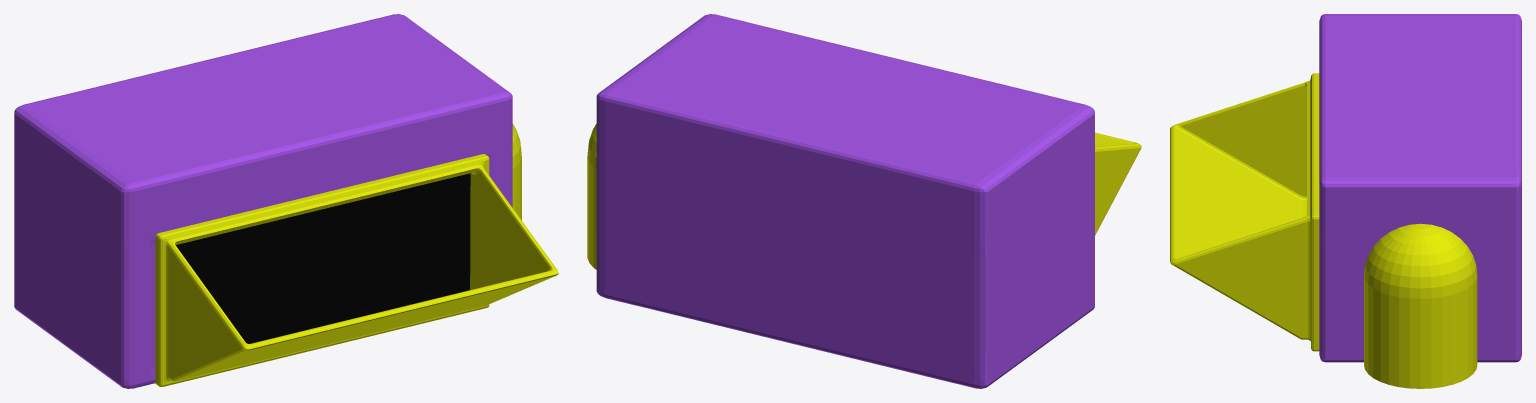
Rendered from ball collector.fbx.
3 renders of one model, left to right at view 1: azimuth 30°, elevation 25°; view 2: azimuth 150°, elevation 25°; view 3: azimuth 270°, elevation 25°, orthographic. The views are drawn at different scales.
Parts seen in each view (by area): view 1: base, screen, chute, pipe; view 2: base, chute, pipe; view 3: base, chute, pipe.
Boxes of the visible parts, box(x1,y1,x2,y2) form: base: box(14, 14, 512, 388); screen: box(175, 173, 470, 343); chute: box(155, 154, 558, 386); pipe: box(512, 123, 521, 220); base: box(596, 14, 1094, 388); chute: box(1095, 132, 1141, 235); pipe: box(587, 123, 596, 269); base: box(1319, 14, 1521, 362); chute: box(1170, 73, 1319, 351); pipe: box(1364, 223, 1477, 388).
Bounding box in the file's own units: 455 × 200 × 348.
